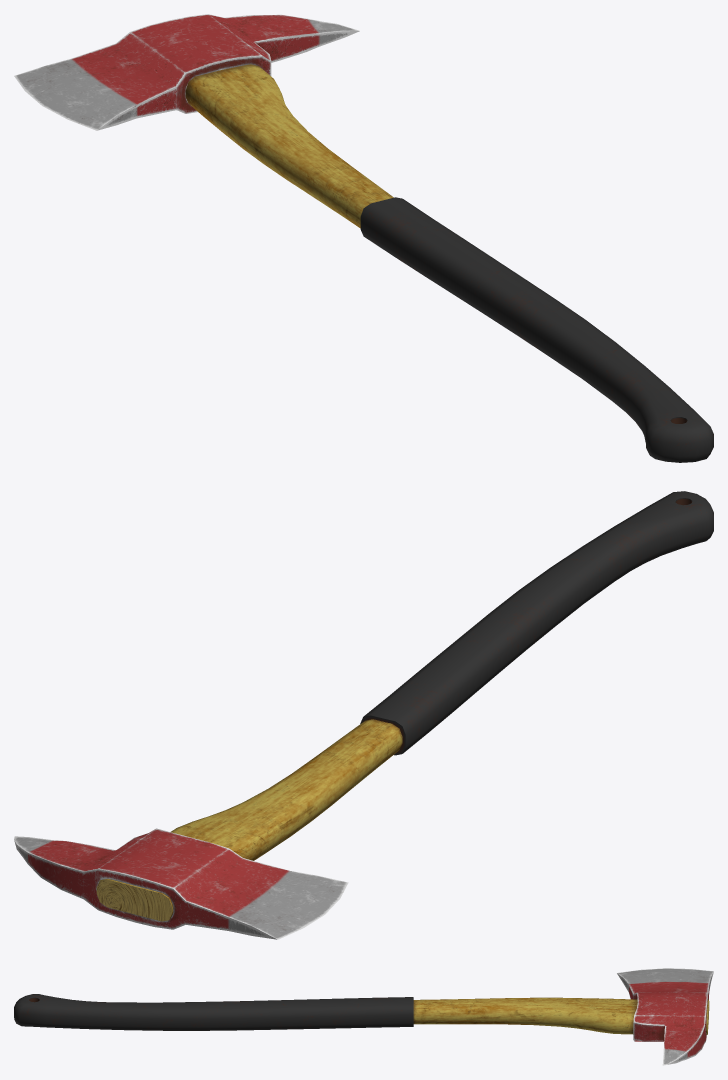
Rendered from fire_axe (3).glb.
3 renders of one model, top to bottom at view 1: azimuth 30°, elevation 25°; view 2: azimuth 150°, elevation 25°; view 3: azimuth 270°, elevation 25°, orthographic. The views are drawn at different scales.
Visible parts, largest first — view 1: hand_2_low, blade_low, hand_1_low; view 2: hand_2_low, blade_low, hand_1_low; view 3: hand_2_low, hand_1_low, blade_low.
Part boxes in pixels (x1=…): hand_2_low: x1=360, y1=197, x2=713, y2=462; blade_low: x1=14, y1=14, x2=359, y2=130; hand_1_low: x1=185, y1=64, x2=393, y2=228; hand_2_low: x1=360, y1=491, x2=713, y2=755; blade_low: x1=14, y1=828, x2=348, y2=939; hand_1_low: x1=96, y1=719, x2=402, y2=921; hand_2_low: x1=14, y1=994, x2=413, y2=1030; hand_1_low: x1=413, y1=997, x2=709, y2=1034; blade_low: x1=617, y1=968, x2=713, y2=1065.
Size of the model in its own units: 1.59 by 0.2216 by 4.84.
Materials: 1 (1 with a texture image).
